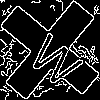W: (25, 25, 91, 91)
